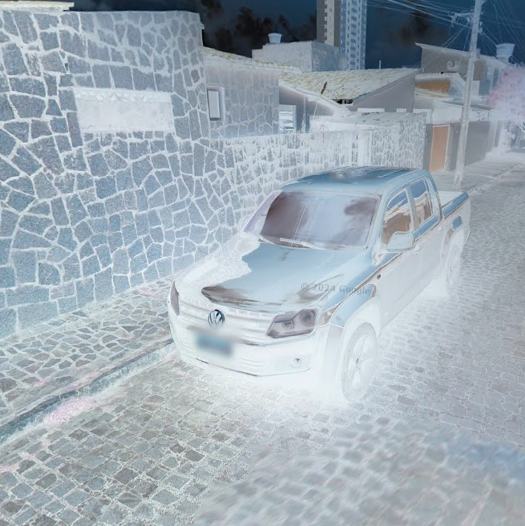car: (167, 165, 471, 408)
